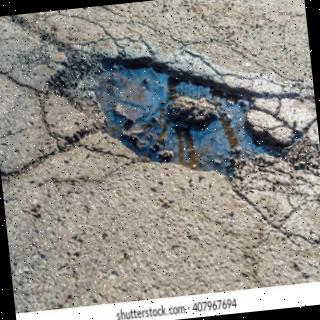pothole: (42, 52, 296, 176)
